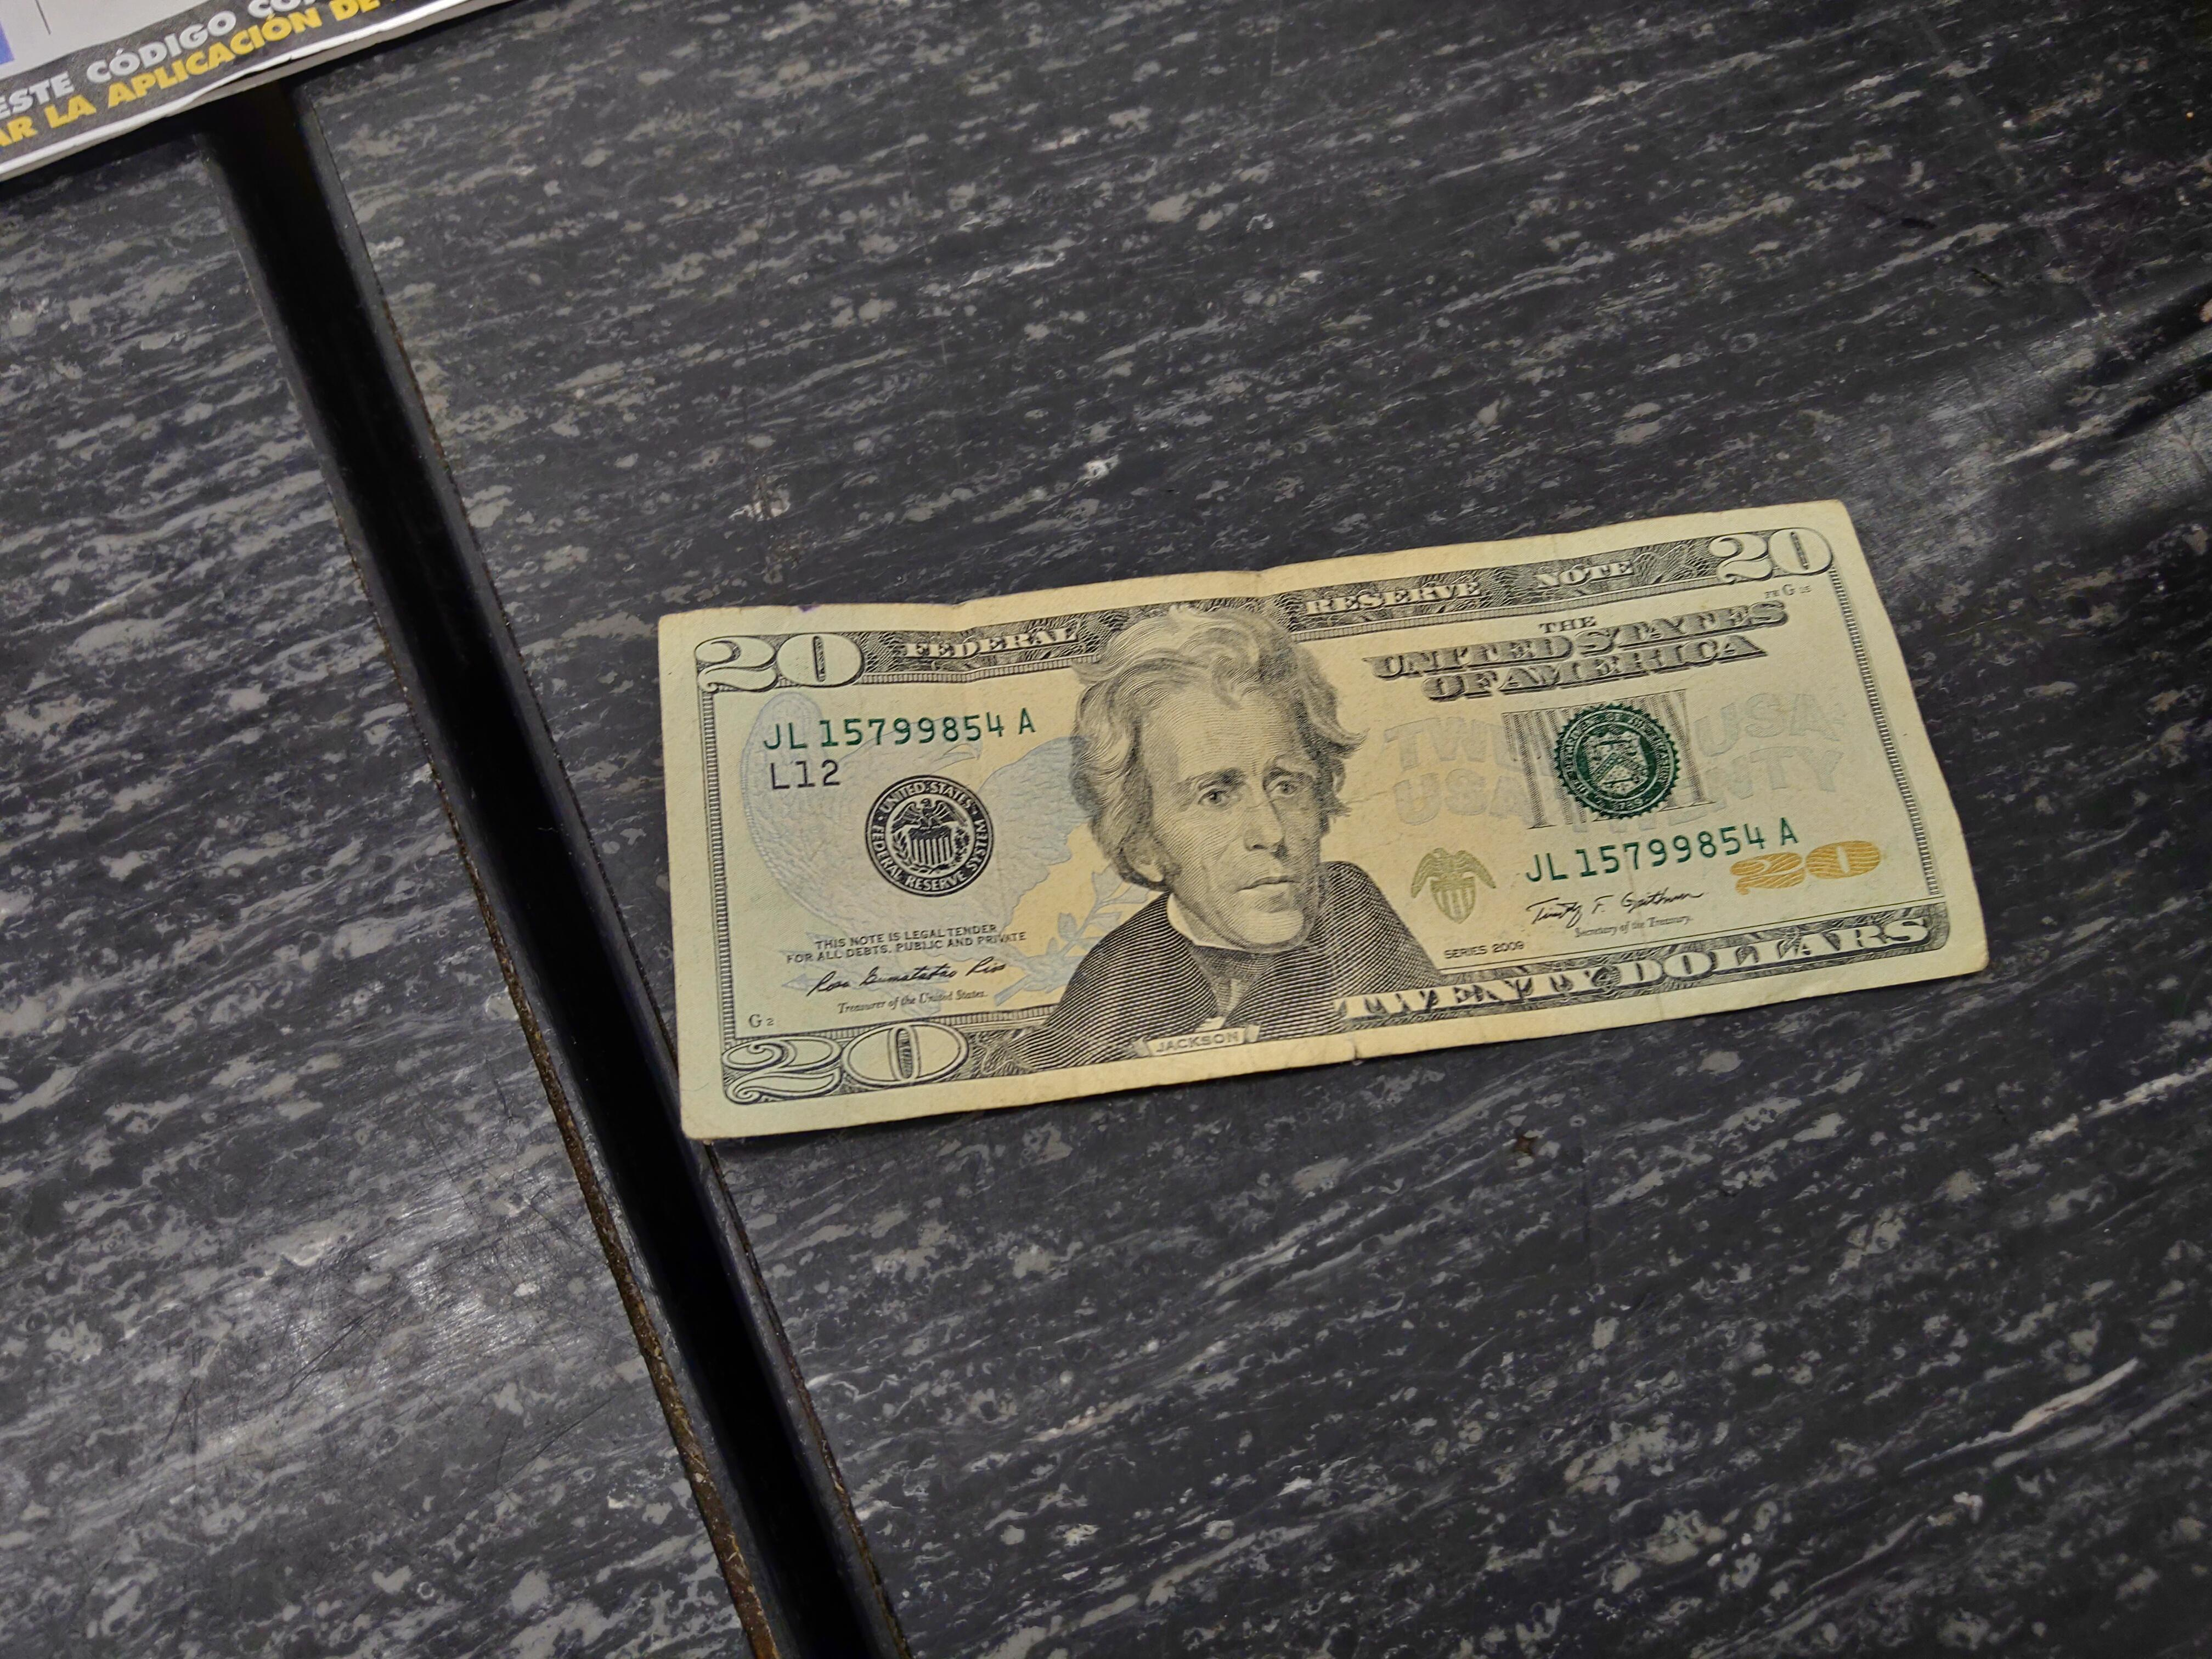TwentyBill: (651, 486, 1991, 1154)
